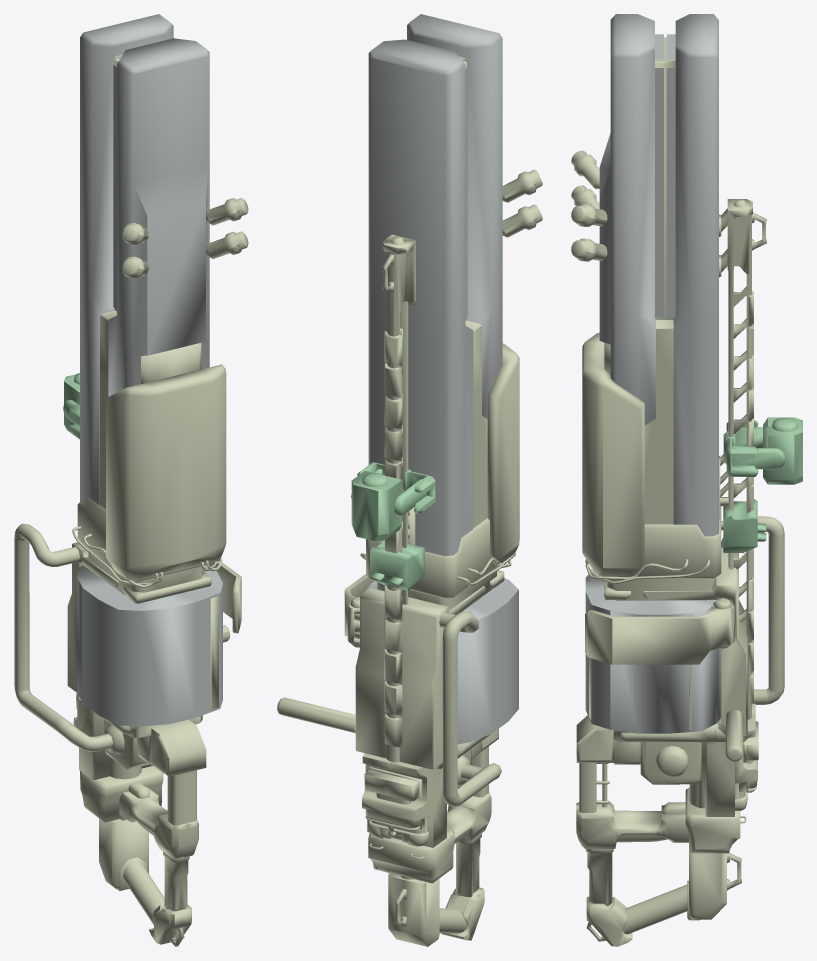
The model's file is Titan_Sniper.fbx.
3 renders of one model, left to right at view 1: azimuth 30°, elevation 25°; view 2: azimuth 150°, elevation 25°; view 3: azimuth 270°, elevation 25°, orthographic. The views are drawn at different scales.
Parts seen in each view (by area): view 1: w_titan_sniper_rifle_lod0, w_titan_sniper_rifle_magazine_lod0; view 2: w_titan_sniper_rifle_lod0, w_titan_sniper_rifle_magazine_lod0; view 3: w_titan_sniper_rifle_lod0, w_titan_sniper_rifle_magazine_lod0.
Boxes of the visible parts, <box> form: w_titan_sniper_rifle_lod0: <box>14,14,248,946</box>; w_titan_sniper_rifle_magazine_lod0: <box>77,565,222,726</box>; w_titan_sniper_rifle_lod0: <box>277,14,542,946</box>; w_titan_sniper_rifle_magazine_lod0: <box>364,578,518,744</box>; w_titan_sniper_rifle_lod0: <box>571,14,802,946</box>; w_titan_sniper_rifle_magazine_lod0: <box>585,569,721,733</box>.
Size of what is drawn, in the model's own units: 3757 by 16547 by 3826.
